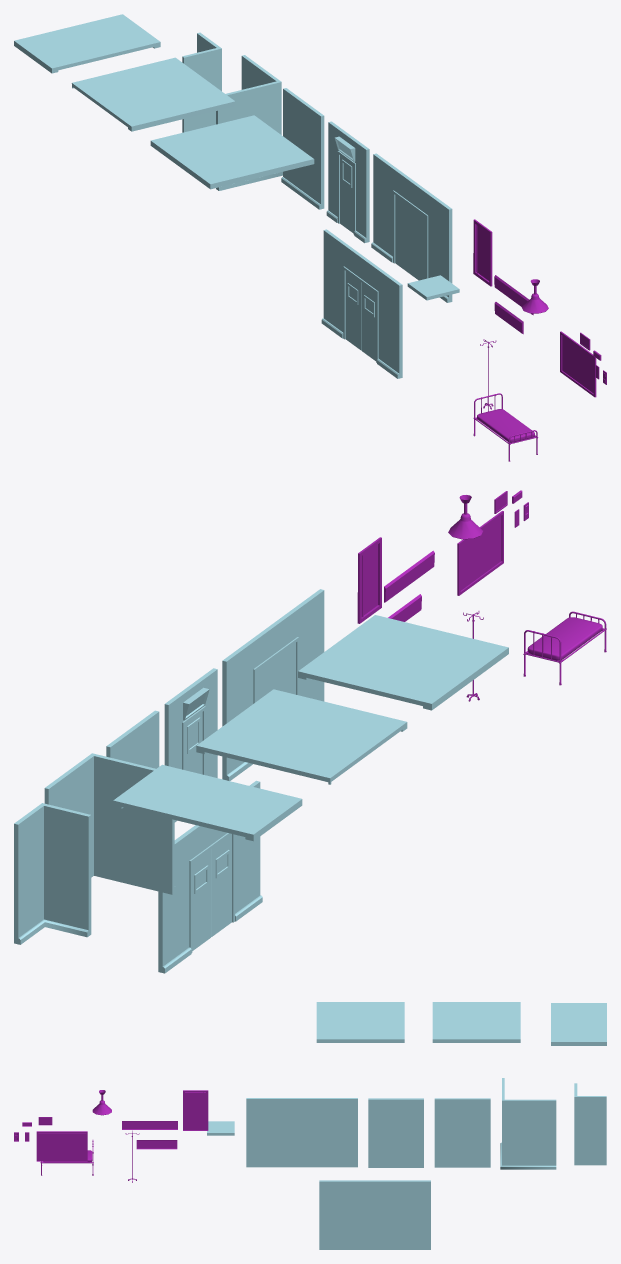
Rendered from modobj2.fbx.
3 renders of one model, top to bottom at view 1: azimuth 30°, elevation 25°; view 2: azimuth 150°, elevation 25°; view 3: azimuth 270°, elevation 25°, orthographic. The views are drawn at different scales.
Visible parts, largest first — view 1: basic double door, basic elevator door, ceilingcorner2, ceilingcorner, ceiling004, basic door, basic, corner, basic corner001, pizarra, Box005, window (+1 smaller); view 2: ceilingcorner2, ceilingcorner, basic double door, corner, basic corner001, basic elevator door, ceiling004, basic door, pizarra, basic, window, Box005 (+2 smaller); view 3: basic double door, basic elevator door, corner, basic, basic door, ceilingcorner, ceilingcorner2, ceiling004, basic corner001, pizarra, window, barra pared larga (+2 smaller).
Part boxes in pixels (left/top/right/bottom): basic double door: left=321, top=229, right=402, bottom=378; basic elevator door: left=371, top=153, right=452, bottom=302; ceilingcorner2: left=150, top=115, right=314, bottom=189; ceilingcorner: left=71, top=57, right=235, bottom=131; ceiling004: left=14, top=14, right=160, bottom=73; basic door: left=326, top=121, right=369, bottom=243; basic: left=281, top=88, right=324, bottom=209; corner: left=216, top=55, right=282, bottom=190; basic corner001: left=182, top=32, right=221, bottom=132; pizarra: left=560, top=331, right=596, bottom=397; Box005: left=477, top=409, right=534, bottom=442; window: left=473, top=219, right=492, bottom=286; ceilingcorner2: left=298, top=615, right=508, bottom=710; ceilingcorner: left=196, top=689, right=407, bottom=784; basic double door: left=158, top=780, right=262, bottom=973; corner: left=44, top=753, right=175, bottom=894; basic corner001: left=14, top=803, right=91, bottom=944; basic elevator door: left=222, top=589, right=324, bottom=780; ceiling004: left=113, top=764, right=302, bottom=841; basic door: left=164, top=668, right=217, bottom=822; pizarra: left=457, top=511, right=503, bottom=595; basic: left=106, top=710, right=159, bottom=768; window: left=357, top=537, right=381, bottom=623; Box005: left=527, top=617, right=602, bottom=660; basic double door: left=319, top=1180, right=430, bottom=1249; basic elevator door: left=246, top=1098, right=357, bottom=1167; corner: left=500, top=1078, right=556, bottom=1169; basic: left=434, top=1098, right=490, bottom=1167; basic door: left=368, top=1098, right=423, bottom=1167; ceilingcorner: left=432, top=1002, right=520, bottom=1042; ceilingcorner2: left=316, top=1002, right=404, bottom=1042; ceiling004: left=551, top=1003, right=606, bottom=1045; basic corner001: left=574, top=1083, right=606, bottom=1165; pizarra: left=36, top=1131, right=87, bottom=1161; window: left=183, top=1090, right=208, bottom=1130; barra pared larga: left=122, top=1121, right=177, bottom=1129.
Size of the model in its own units: 238 by 277 by 836.
